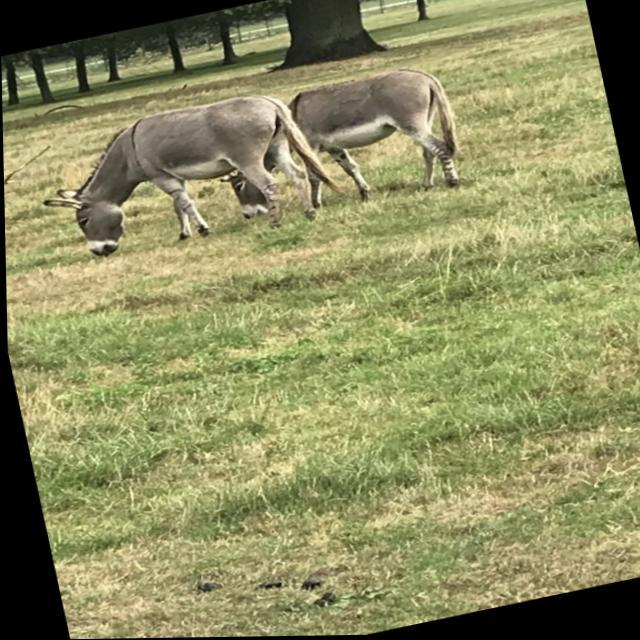Donkey: (23, 76, 351, 272), (196, 58, 468, 236)
